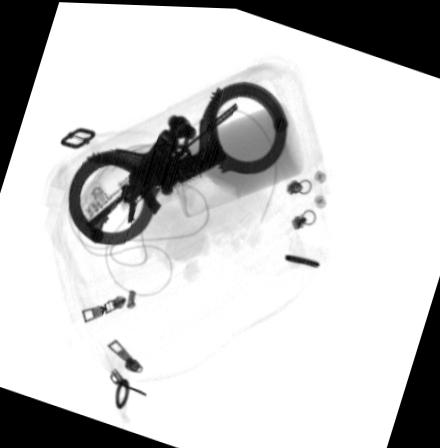Gun: (82, 95, 243, 240)
HandCuffs: (66, 77, 290, 245)
